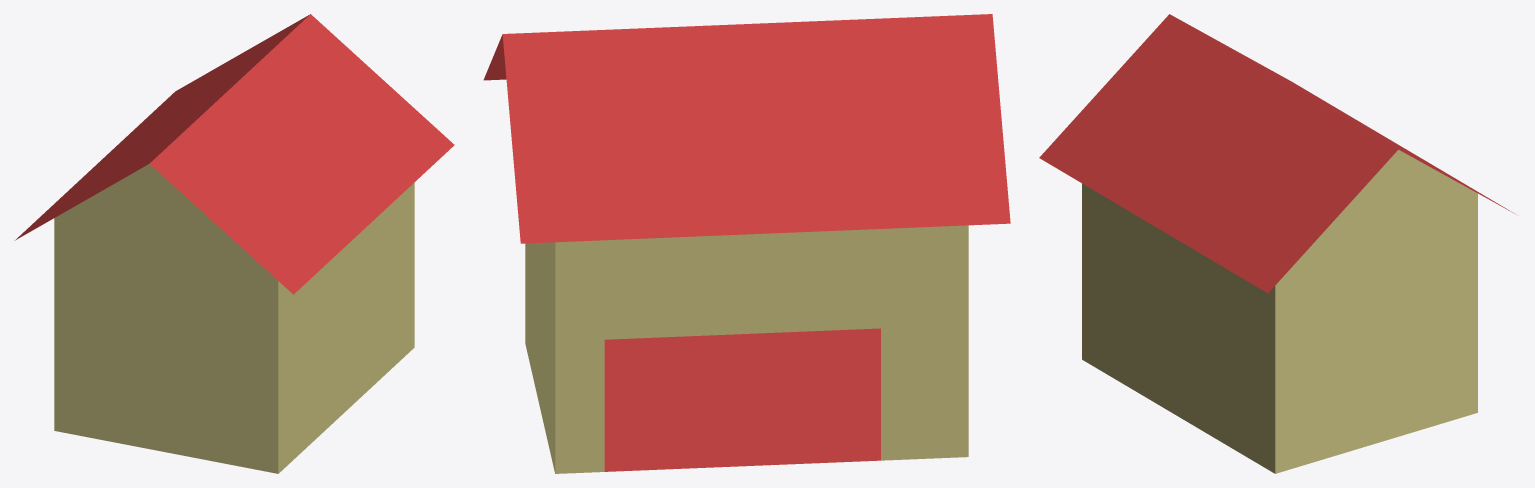
3 views of the same model, side by side, from view 1: azimuth 30°, elevation 25°; view 2: azimuth 150°, elevation 25°; view 3: azimuth 270°, elevation 25° (orthographic). The views are drawn at different scales.
Bounding box in the file's own units: 16.33 × 15.7 × 10.9.
